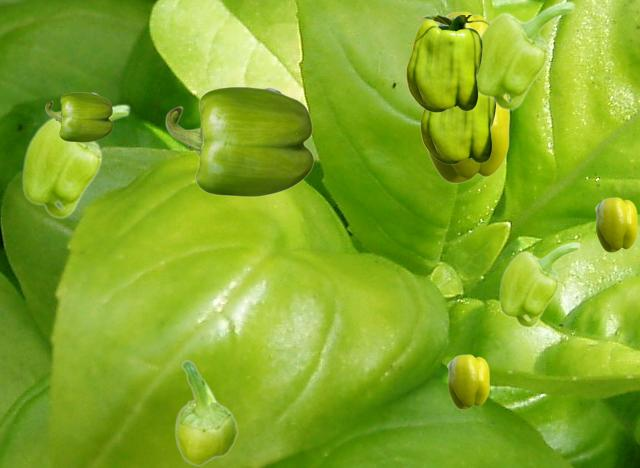bell_pepper: (165, 86, 313, 196), (21, 103, 130, 218), (478, 0, 575, 110), (406, 15, 489, 111), (498, 241, 580, 327), (174, 360, 237, 465), (427, 108, 508, 182), (420, 96, 496, 163), (45, 92, 112, 141), (447, 354, 488, 408), (595, 197, 636, 251), (438, 11, 486, 32)
